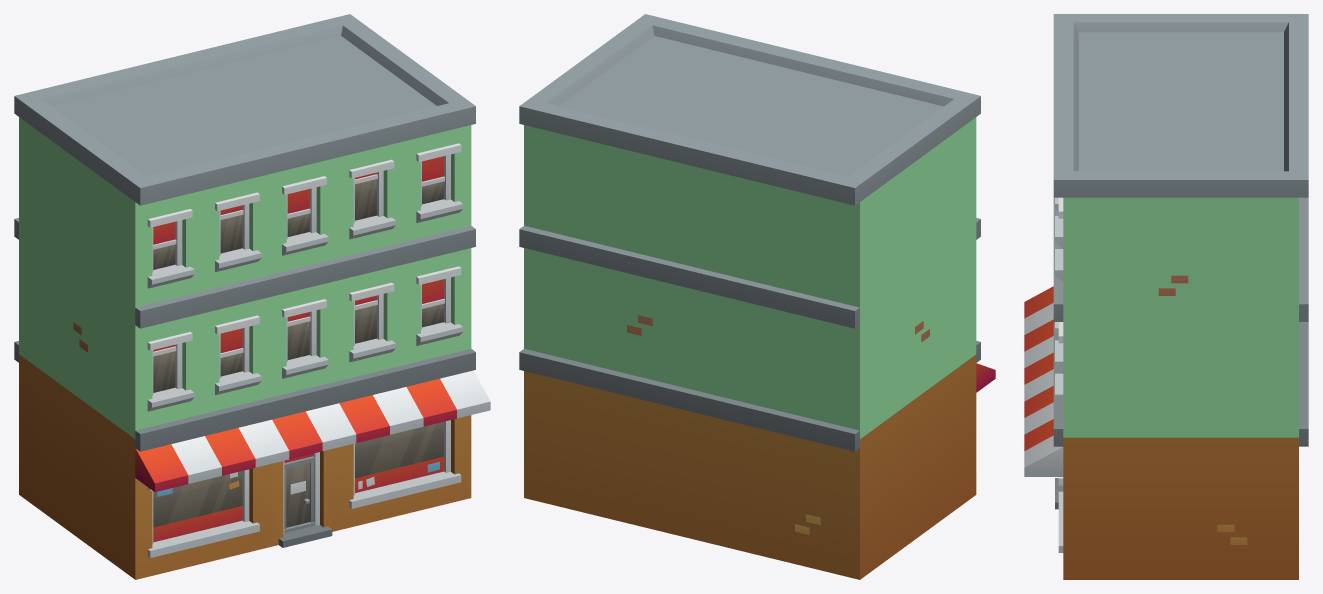
The model's file is nha8.glb.
3 renders of one model, left to right at view 1: azimuth 30°, elevation 25°; view 2: azimuth 150°, elevation 25°; view 3: azimuth 270°, elevation 25°, orthographic.
Parts seen in each view (by area): view 1: building_E_withoutBase_Cube.943; view 2: building_E_withoutBase_Cube.943; view 3: building_E_withoutBase_Cube.943.
Boxes of the visible parts, x1=… form: building_E_withoutBase_Cube.943: x1=14, y1=14, x2=490, y2=579; building_E_withoutBase_Cube.943: x1=519, y1=14, x2=995, y2=579; building_E_withoutBase_Cube.943: x1=1024, y1=14, x2=1308, y2=579.
Size of the model in its own units: 2.01 by 2.25 by 1.45.
Materials: 2 (1 with a texture image).
